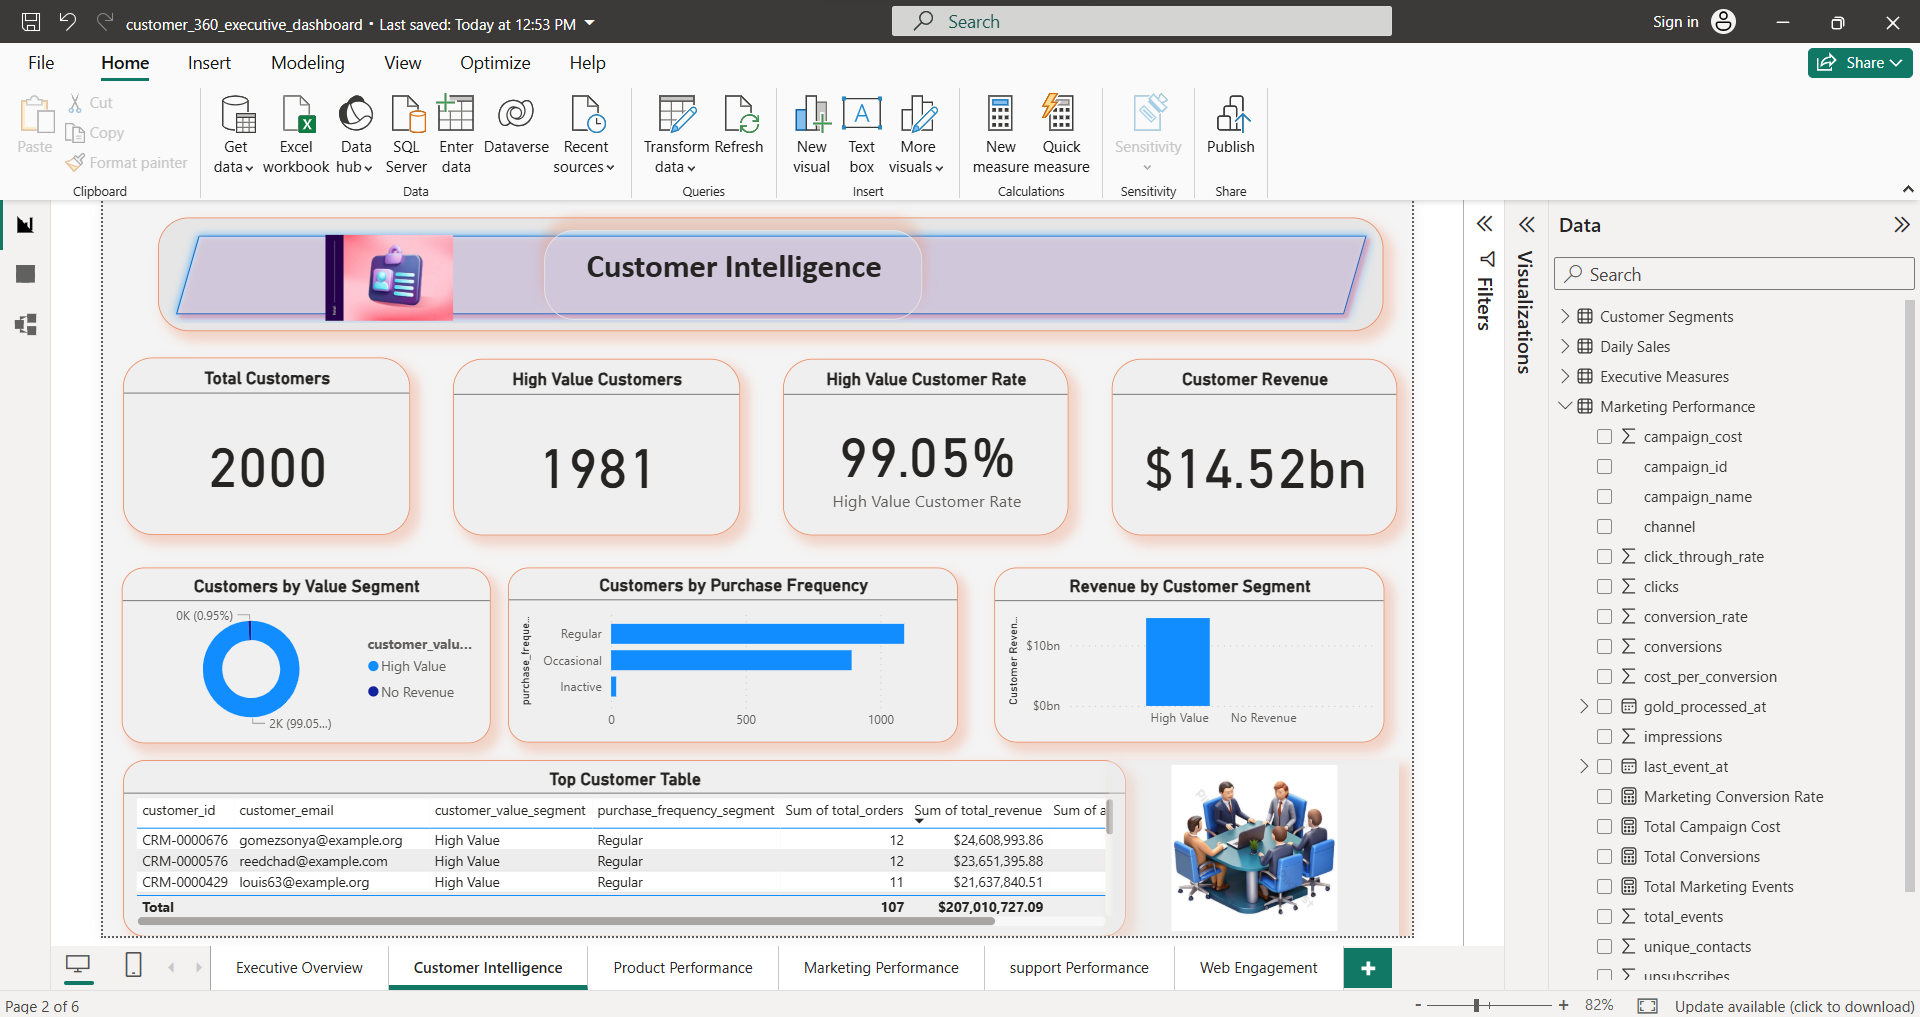

What the dashboard file says about the page in this screenshot:
{"tool":"powerbi","page":{"name":"Customer Intelligence","canvas":[1280,720],"ordinal":1},"visuals":[{"type":"card","title":"Total Customers","fields":{"Values":["Customer Segments.Total Customers"]},"box":[19,154.4,280.6,173.9],"z":0},{"type":"card","title":"High Value Customers","fields":{"Values":["Customer Segments.High Value Customers"]},"box":[342,155.8,280.6,172.5],"z":1000},{"type":"card","title":"High Value Customer Rate","fields":{"Values":["Customer Segments.High Value Customer Rate"]},"box":[665,155.8,279.2,172.5],"z":2000},{"type":"card","title":"Customer Revenue","fields":{"Values":["Customer Segments.Customer Revenue"]},"box":[986.5,155.8,279.2,172.5],"z":3000},{"type":"donutChart","title":"Customers by Value Segment","fields":{"Category":["Customer Segments.customer_value_segment"],"Y":["Customer Segments.Total Customers"]},"box":[18.4,359.3,360.5,171.7],"z":4000},{"type":"clusteredBarChart","title":"Customers by Purchase Frequency","fields":{"Category":["Customer Segments.purchase_frequency_segment"],"Y":["Customer Segments.Total Customers"]},"box":[396.1,359.5,439.9,171],"z":5000},{"type":"clusteredColumnChart","title":"Revenue by Customer Segment","fields":{"Y":["Customer Segments.Customer Revenue"],"Category":["Customer Segments.customer_value_segment"]},"box":[871.1,359.5,381.5,171],"z":6000},{"type":"tableEx","title":"Top Customer Table","fields":{"Values":["Customer Segments.customer_id","Customer Segments.customer_email","Customer Segments.customer_value_segment","Customer Segments.purchase_frequency_segment","Sum(Customer Segments.total_orders)","Sum(Customer Segments.total_revenue)","Sum(Customer Segments.average_order_value)"]},"box":[19,548.1,980.7,172.5],"z":7000},{"type":"shape","box":[54.1,17.5,1198.5,111.1],"z":8000},{"type":"textbox","box":[431.2,29.2,369.8,87.7],"z":9000},{"type":"image","box":[130.1,29.2,301.1,93.5],"z":10000},{"type":"image","box":[983.6,548.1,283.5,172.5],"z":11000}]}

Visuals, with their boxes on the page's 1280x720 design canvas (x1, y1, x2, y2). These are canvas units, not pixel positions in the 1920x1017 screenshot, which may show the page scaled, cropped or inside an application window:
"Total Customers" card: [x1=19, y1=154, x2=300, y2=328]
"High Value Customers" card: [x1=342, y1=156, x2=623, y2=328]
"High Value Customer Rate" card: [x1=665, y1=156, x2=944, y2=328]
"Customer Revenue" card: [x1=986, y1=156, x2=1266, y2=328]
"Customers by Value Segment" donutChart: [x1=18, y1=359, x2=379, y2=531]
"Customers by Purchase Frequency" clusteredBarChart: [x1=396, y1=360, x2=836, y2=530]
"Revenue by Customer Segment" clusteredColumnChart: [x1=871, y1=360, x2=1253, y2=530]
"Top Customer Table" tableEx: [x1=19, y1=548, x2=1000, y2=721]
shape: [x1=54, y1=18, x2=1253, y2=129]
textbox: [x1=431, y1=29, x2=801, y2=117]
image: [x1=130, y1=29, x2=431, y2=123]
image: [x1=984, y1=548, x2=1267, y2=721]
